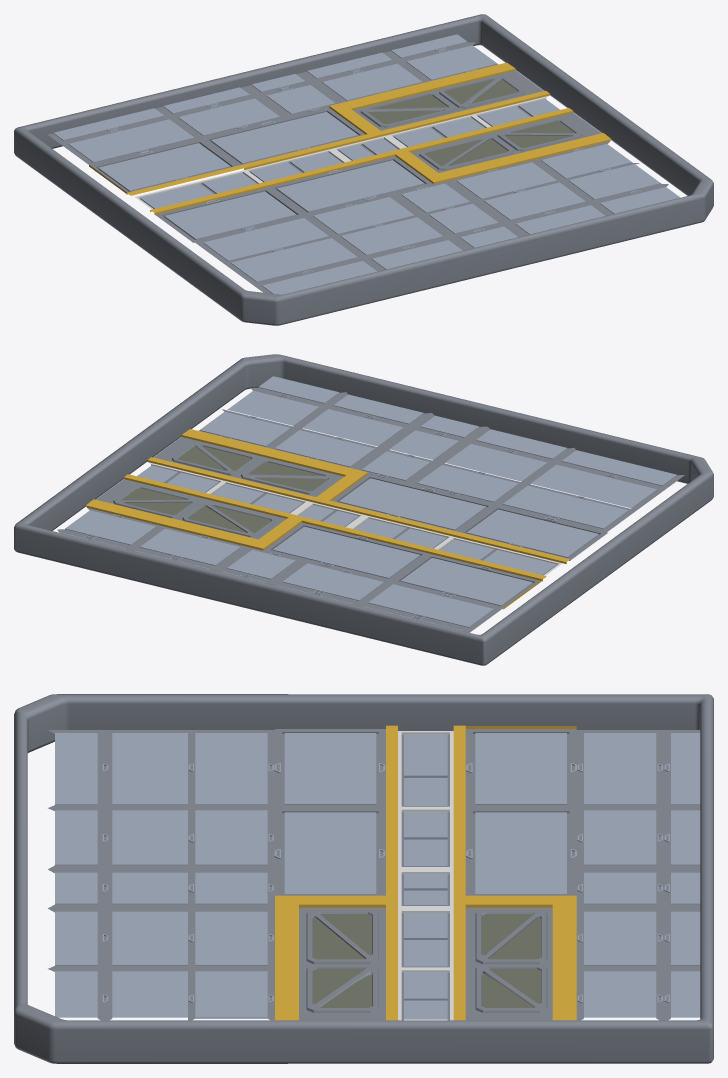
The model's file is Ground.fbx.
3 views of the same model, one above another, from view 1: azimuth 30°, elevation 25°; view 2: azimuth 150°, elevation 25°; view 3: azimuth 270°, elevation 25° (orthographic). The views are drawn at different scales.
Visible parts, largest first — view 1: Border2, pCube95 (×3), pCube100 (×6), pCube113 (×2), pCube111 (×2), pPlane1 (×4), pCube87 (×4), pCube122, pCube112; view 2: Border2, pCube95 (×3), pCube100 (×4), pCube113 (×2), pCube111 (×2), pPlane1 (×4), pCube87 (×4), pCube122, pCube112; view 3: pCube95 (×3), Border2, pCube100 (×6), pCube113 (×2), pCube111 (×2), pPlane1 (×4), pCube87 (×4), pCube122, pCube112.
Part boxes in pixels (x1,y1,x2,y2): Border2: (14,14,713,325); pCube95 (×3): (126,90,639,264); pCube100 (×6): (48,34,543,193); pCube113 (×2): (336,164,667,258); pCube111 (×2): (365,184,680,270); pPlane1 (×4): (368,79,574,165); pCube87 (×4): (360,75,582,170); pCube122: (225,237,364,285); pCube112: (254,258,380,294); Border2: (14,354,713,665); pCube95 (×3): (124,409,636,581); pCube100 (×4): (57,479,542,630); pCube113 (×2): (227,388,553,483); pCube111 (×2): (251,376,573,462); pPlane1 (×4): (121,446,328,532); pCube87 (×4): (113,442,335,537); pCube122: (526,462,665,510); pCube112: (555,448,684,489); pCube95 (×3): (188,725,465,1020); Border2: (14,694,713,1063); pCube100 (×6): (465,726,700,1020); pCube113 (×2): (105,808,187,1020); pCube111 (×2): (48,808,104,1020); pPlane1 (×4): (313,914,541,1007); pCube87 (×4): (306,909,547,1012); pCube122: (105,730,187,808); pCube112: (48,730,104,808).
Size of the model in its own units: 641 by 36.61 by 570.
